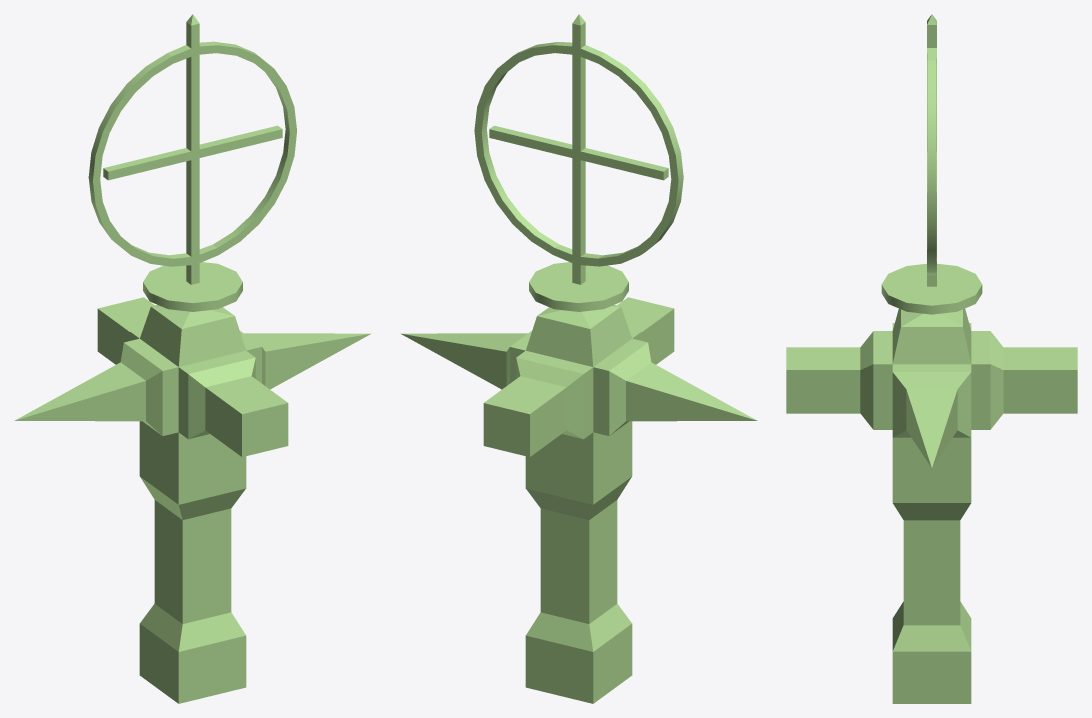
The model's file is tower.obj.
3 views of the same model, side by side, from view 1: azimuth 30°, elevation 25°; view 2: azimuth 150°, elevation 25°; view 3: azimuth 270°, elevation 25° (orthographic).
Parts seen in each view (by area): view 1: Box001; view 2: Box001; view 3: Box001.
Part boxes in pixels (x1,y1,x2,y2): Box001: (14, 14, 370, 703); Box001: (401, 14, 757, 703); Box001: (786, 14, 1077, 703).
Bounding box in the file's own units: 169 × 302 × 118.
